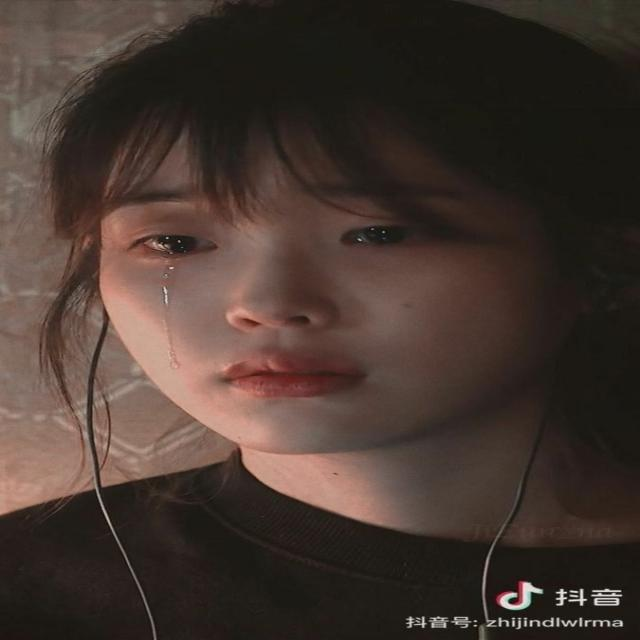sem_oculos: (49, 168, 596, 276)
